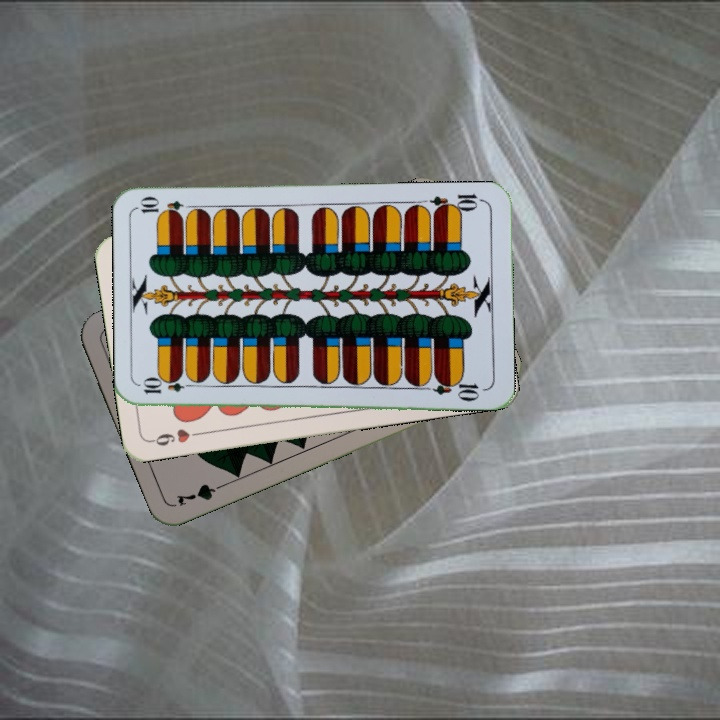E10: (427, 190, 486, 216), (139, 378, 198, 396)
G7: (172, 478, 230, 509)
H9: (147, 424, 206, 449)
